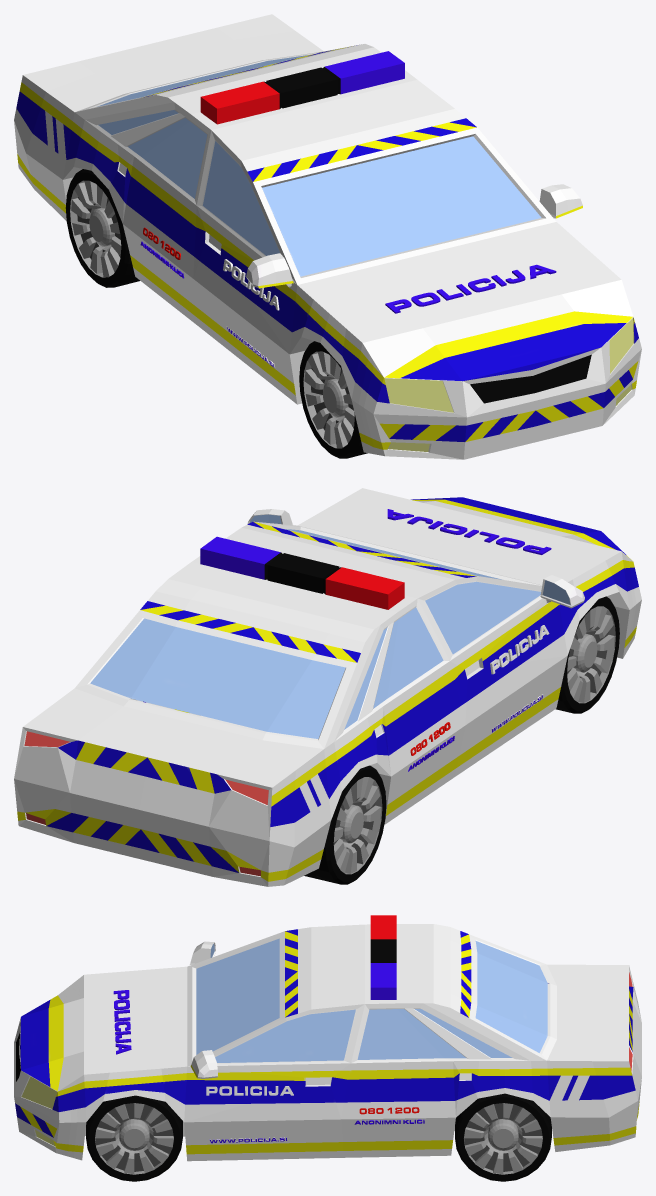
Rendered from policijskiAvto.glb.
The picture shows the model from 3 angles, top to bottom: view 1: azimuth 30°, elevation 25°; view 2: azimuth 150°, elevation 25°; view 3: azimuth 270°, elevation 25°; orthographic projection. The views are drawn at different scales.
Parts seen in each view (by area): view 1: Avto, Cube, Kolo.004, Kolo.001, Cube.001, PolicijaText3; view 2: Avto, Cube, Kolo.004, Kolo.001, Cube.001, PolicijaText3, PolicijaText2; view 3: Avto, Kolo.002, Kolo, Cube, Cube.001, PolicijaText3, PolicijaText1.
Boxes of the visible parts, x1,y1,x2,y2 form: Avto: (14,14,641,459); Cube: (200,51,404,124); Kolo.004: (65,169,139,287); Kolo.001: (299,341,367,458); Cube.001: (246,184,582,288); PolicijaText3: (385,264,556,313); Avto: (14,488,641,886); Cube: (200,536,404,609); Kolo.004: (304,765,386,884); Kolo.001: (555,596,619,713); Cube.001: (247,509,584,608); PolicijaText3: (387,509,551,554); PolicijaText2: (490,625,549,674); Avto: (14,924,641,1161); Kolo.002: (455,1093,551,1181); Kolo: (86,1095,182,1181); Cube: (370,915,396,999); Cube.001: (189,941,217,1078); PolicijaText3: (113,990,131,1054); PolicijaText1: (206,1086,293,1095).
Size of the model in its own units: 1.82 by 1.2 by 3.79.
Materials: 5 (5 with a texture image).
